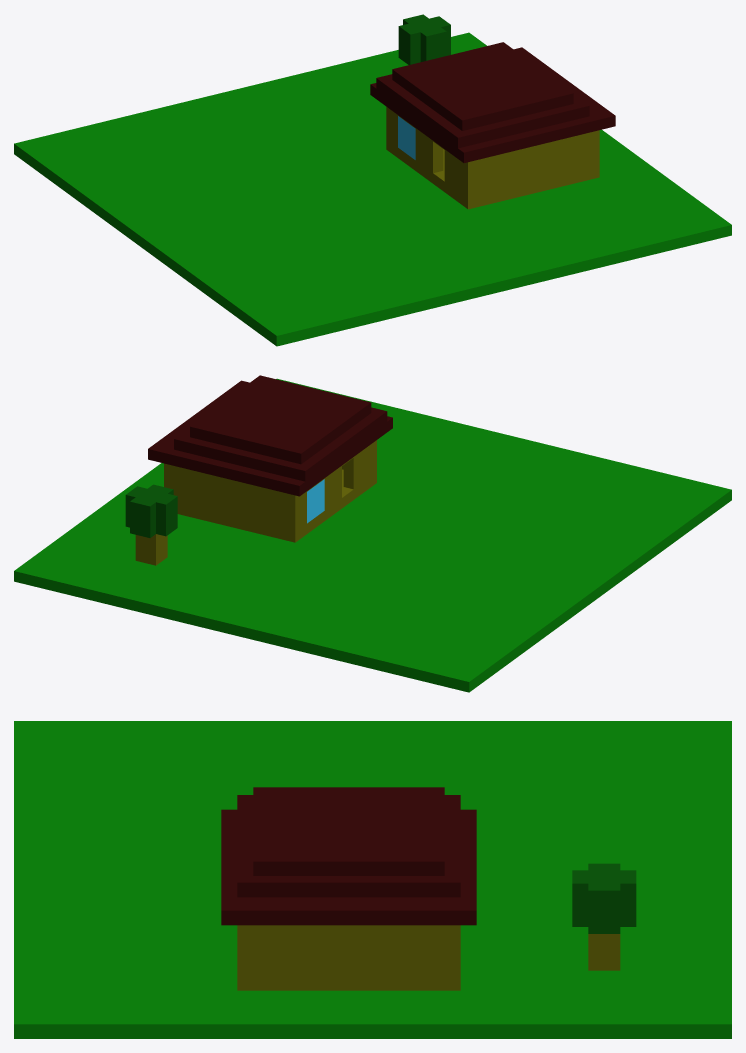
The model's file is house.obj.
The picture shows the model from 3 angles, top to bottom: view 1: azimuth 30°, elevation 25°; view 2: azimuth 150°, elevation 25°; view 3: azimuth 270°, elevation 25°; orthographic projection. The views are drawn at different scales.
Size of the model in its own units: 45 by 9 by 45.
Materials: 1 (1 with a texture image).
